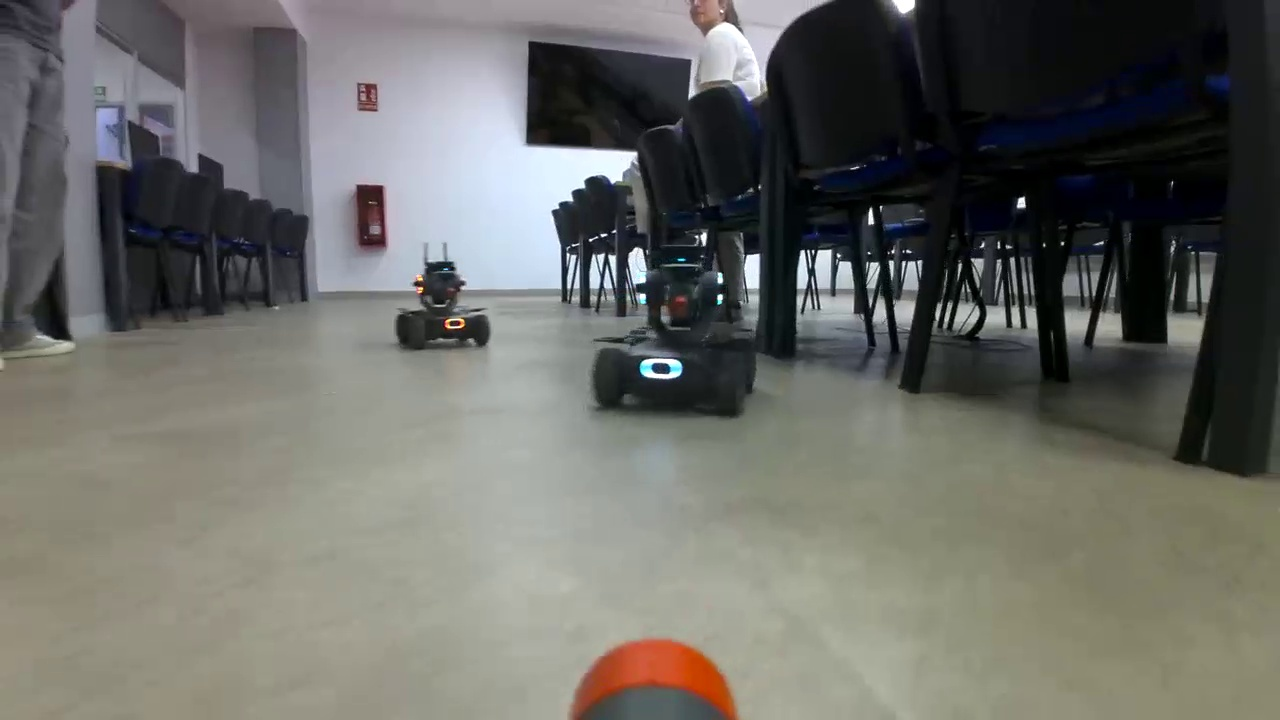robot: (592, 241, 758, 417), (394, 260, 491, 349)
